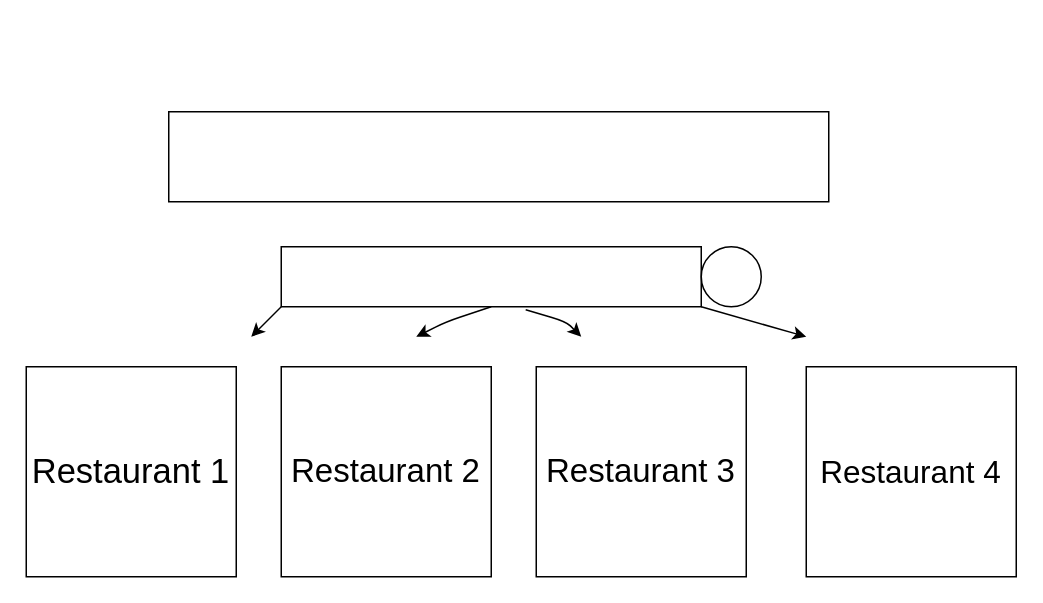
The diagram is 1043 pixels wide and 603 high, and some of its shapes have lost their labels. Each missing label, with the centre of its shape:
Title: point (498, 156)
User Input: point (490, 276)
